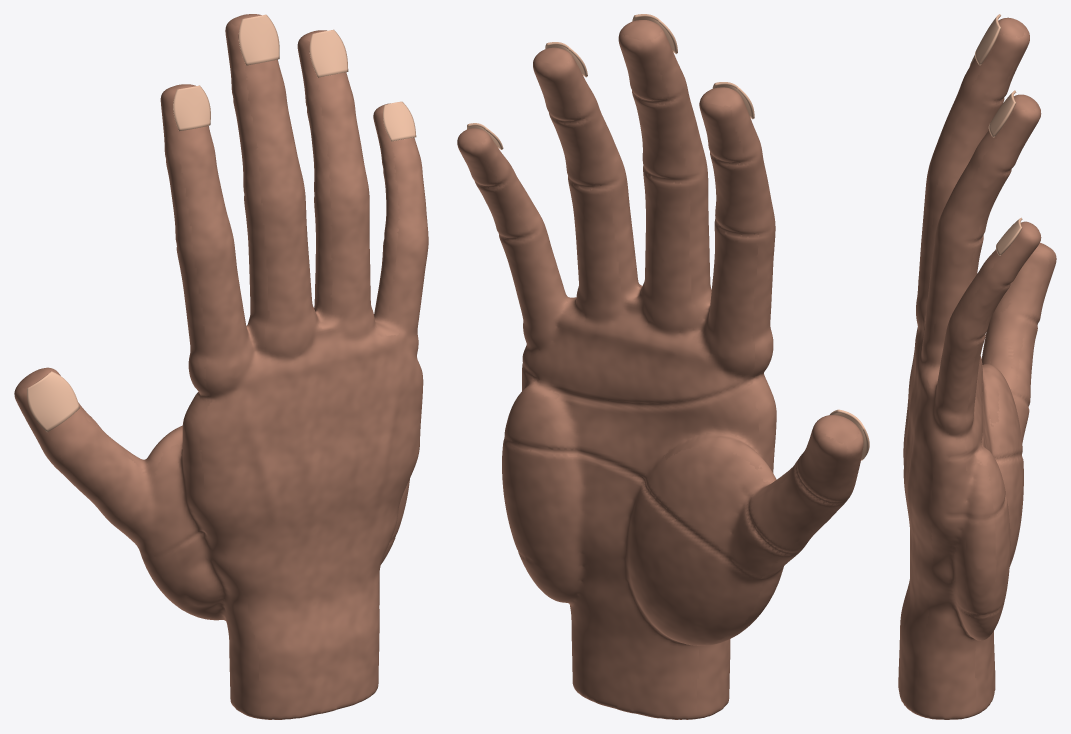
Rendered from family-00.glb.
3 views of the same model, side by side, from view 1: azimuth 30°, elevation 25°; view 2: azimuth 150°, elevation 25°; view 3: azimuth 270°, elevation 25° (orthographic). The views are drawn at different scales.
Parts seen in each view (by area): view 1: fingers__fingers_sculpt, back_of_hand__back_of_hand_sculpt, wrist__wrist_sculpt, fingertips__fingertips_sculpt, palm__palm_sculpt, nails__thumb_claw, nails__middle_claw, nails__ring_claw, nails__index_claw, nails__pinky_claw; view 2: fingers__fingers_sculpt, palm__palm_sculpt, wrist__wrist_sculpt, fingertips__fingertips_sculpt; view 3: fingers__fingers_sculpt, palm__palm_sculpt, wrist__wrist_sculpt, back_of_hand__back_of_hand_sculpt, fingertips__fingertips_sculpt, nails__middle_claw, nails__ring_claw, nails__pinky_claw.
Boxes of the visible parts, x1,y1,x2,y2 form: fingers__fingers_sculpt: [43, 77, 428, 596]; back_of_hand__back_of_hand_sculpt: [185, 356, 423, 614]; wrist__wrist_sculpt: [175, 560, 383, 719]; fingertips__fingertips_sculpt: [14, 14, 419, 452]; palm__palm_sculpt: [165, 402, 409, 607]; nails__thumb_claw: [27, 371, 79, 432]; nails__middle_claw: [238, 14, 279, 65]; nails__ring_claw: [309, 29, 348, 77]; nails__index_claw: [173, 85, 210, 131]; nails__pinky_claw: [383, 101, 416, 141]; fingers__fingers_sculpt: [472, 73, 854, 622]; palm__palm_sculpt: [502, 341, 773, 632]; wrist__wrist_sculpt: [531, 578, 744, 719]; fingertips__fingertips_sculpt: [457, 20, 863, 496]; fingers__fingers_sculpt: [911, 69, 1040, 500]; palm__palm_sculpt: [949, 356, 1022, 632]; wrist__wrist_sculpt: [898, 581, 996, 719]; back_of_hand__back_of_hand_sculpt: [903, 369, 951, 620]; fingertips__fingertips_sculpt: [968, 17, 1056, 315]; nails__middle_claw: [975, 14, 1001, 65]; nails__ring_claw: [988, 90, 1016, 137]; nails__pinky_claw: [996, 217, 1022, 255].
Size of the model in its own units: 0.1308 by 0.2169 by 0.0472.
Materials: 2 (1 with a texture image).
